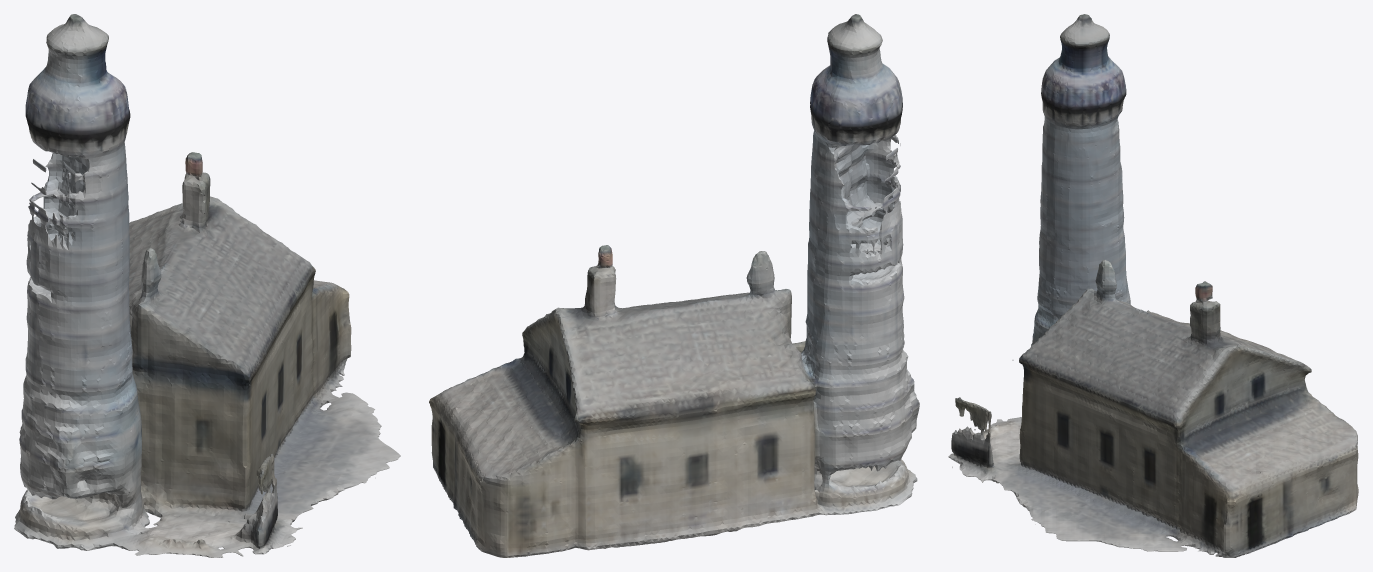
File: compressedLighthouseModel.glb
The picture shows the model from 3 angles, left to right: view 1: azimuth 30°, elevation 25°; view 2: azimuth 150°, elevation 25°; view 3: azimuth 270°, elevation 25°; orthographic projection. The views are drawn at different scales.
Visible parts, largest first — view 1: world; view 2: world; view 3: world.
Part boxes in pixels (box(x1,y1,x2,y2)): world: box(14, 14, 400, 557); world: box(429, 14, 919, 557); world: box(948, 14, 1358, 557).
Bounding box in the file's own units: 1.68 × 1.96 × 1.78.
